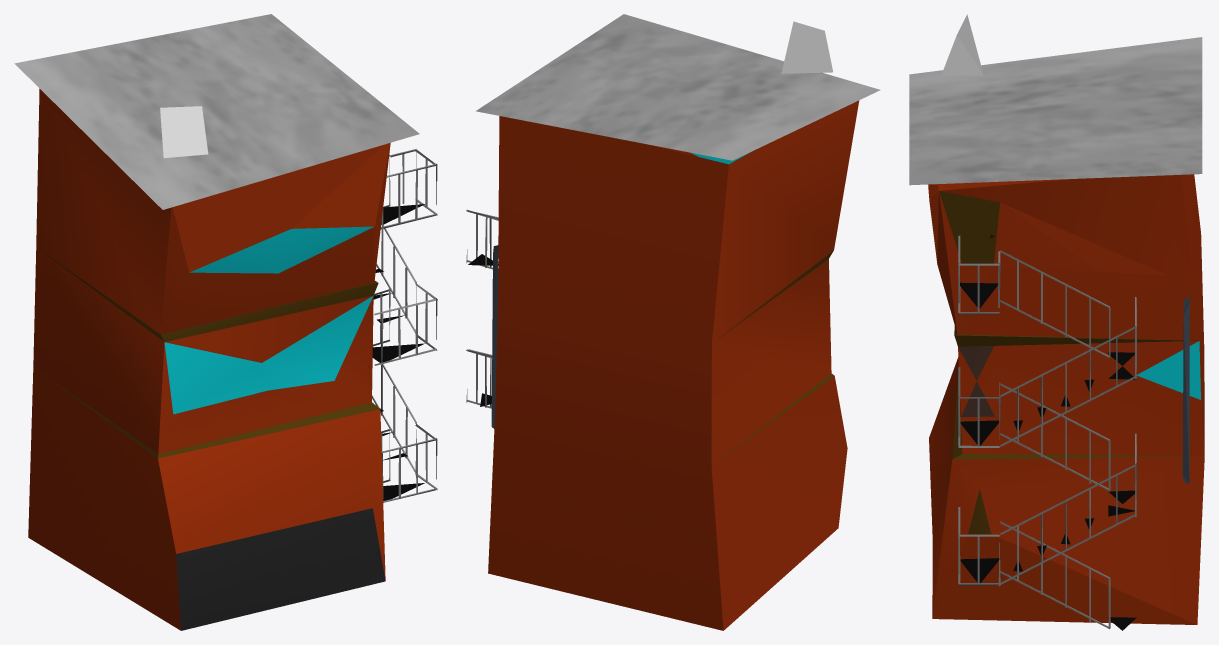
The model's file is PredioTorto-VermelhoBarrentoLOD2.fbx.
3 views of the same model, side by side, from view 1: azimuth 30°, elevation 25°; view 2: azimuth 150°, elevation 25°; view 3: azimuth 270°, elevation 25° (orthographic).
Parts seen in each view (by area): view 1: Predio3AndaresLOD2; view 2: Predio3AndaresLOD2; view 3: Predio3AndaresLOD2.
Part boxes in pixels (<box>): Predio3AndaresLOD2: <box>14,14,437,630</box>; Predio3AndaresLOD2: <box>466,14,880,630</box>; Predio3AndaresLOD2: <box>909,14,1204,630</box>.
Size of the model in its own units: 1025 by 1669 by 885.
